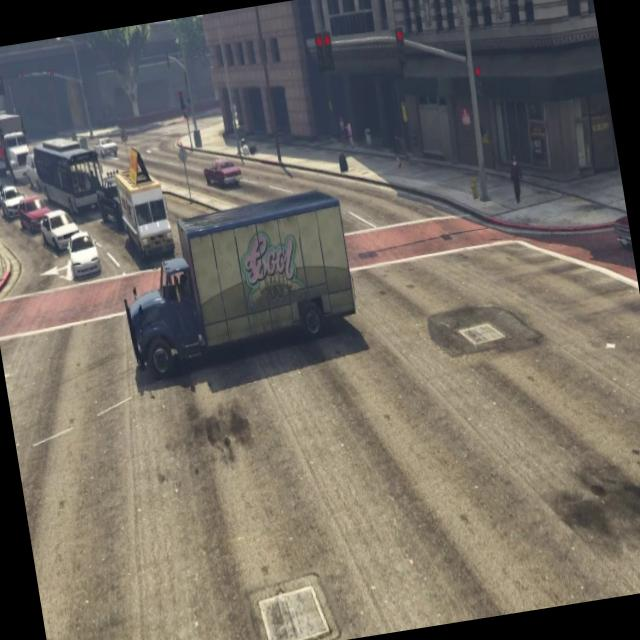Red-Signal: (310, 26, 341, 78), (468, 54, 494, 112), (389, 17, 414, 68)
